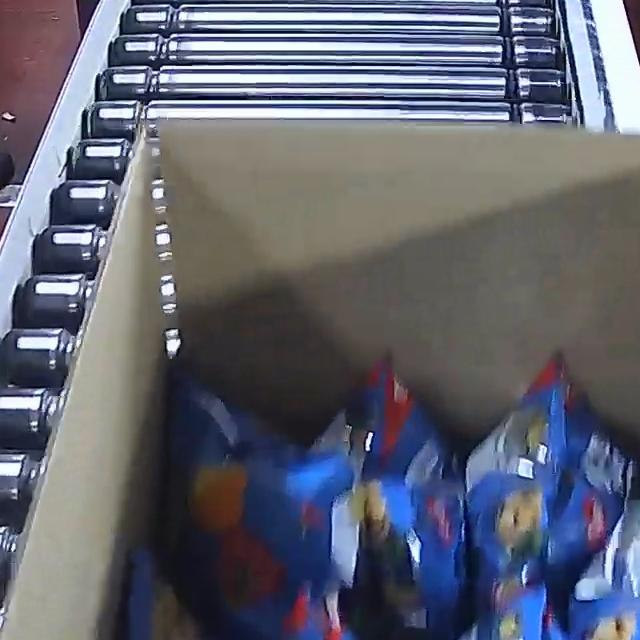paprika: (123, 346, 640, 640)
